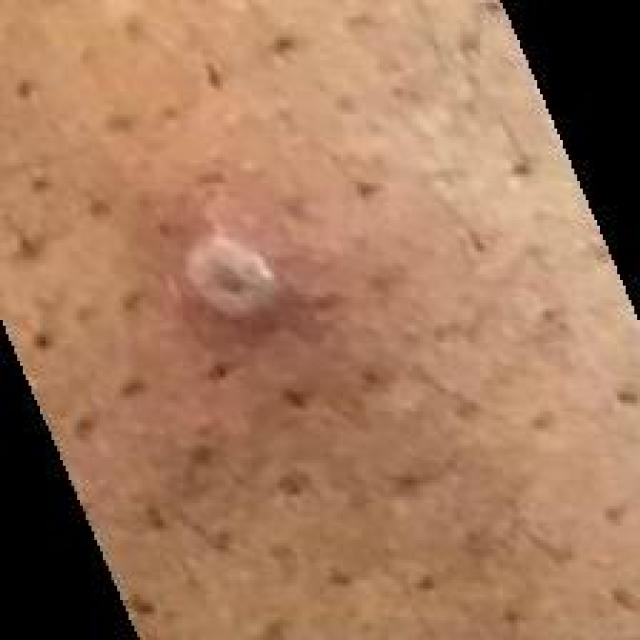monkeypox: (72, 78, 492, 520)
